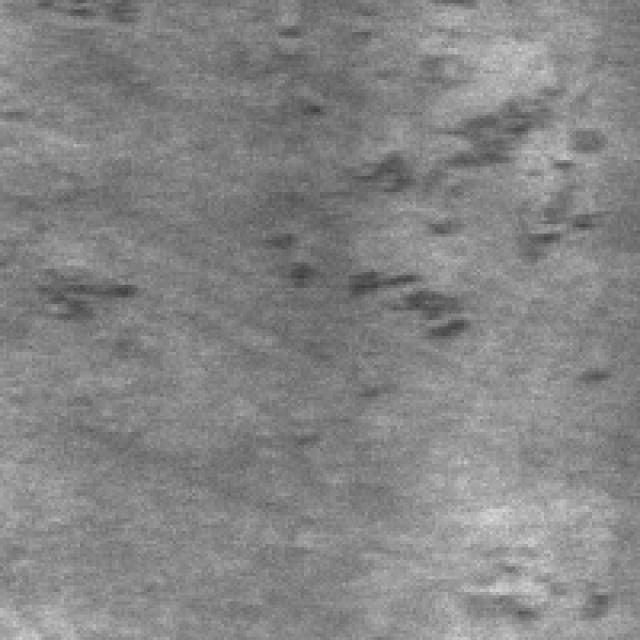rolled-in_scale: (291, 64, 611, 342), (454, 538, 614, 636), (7, 250, 154, 332)
